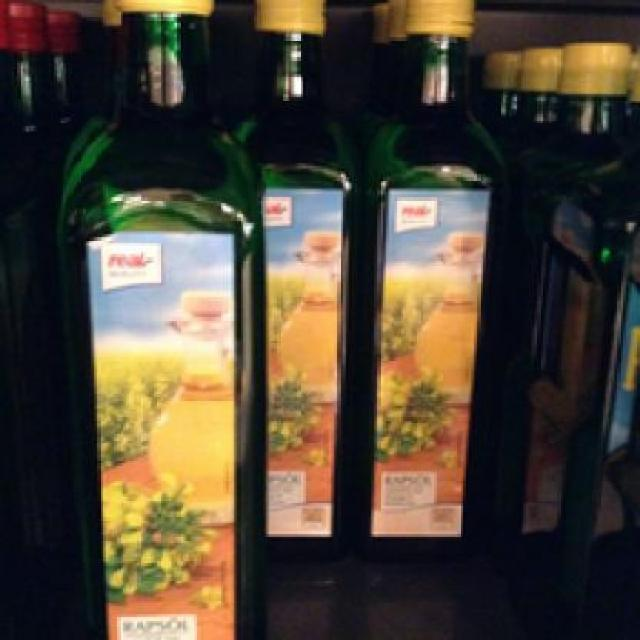Oil: (54, 0, 263, 637), (356, 0, 512, 552), (231, 0, 360, 555)
